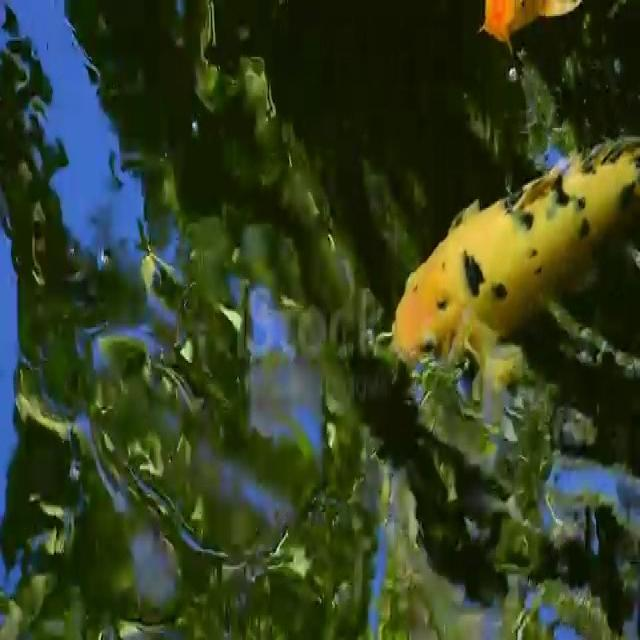fish: (385, 133, 640, 404)
